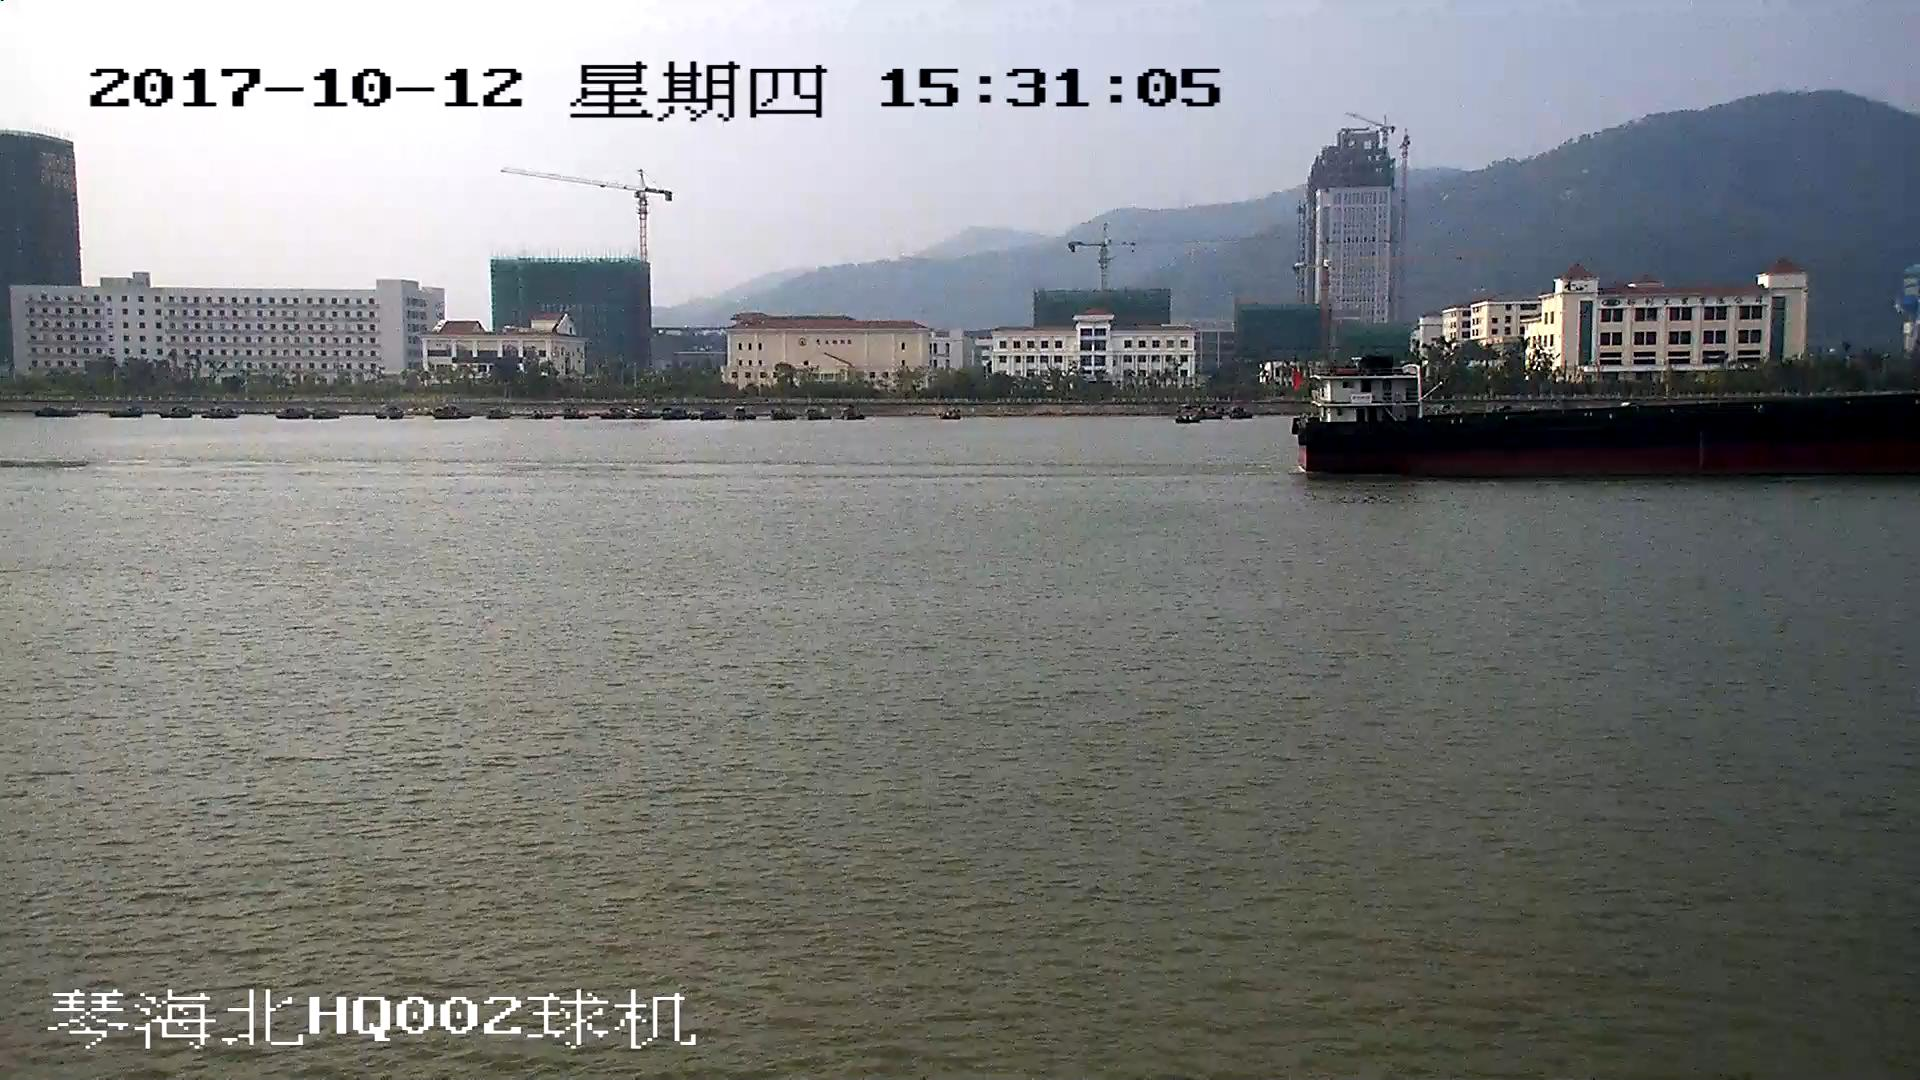general cargo ship: (1298, 360, 1920, 482)
